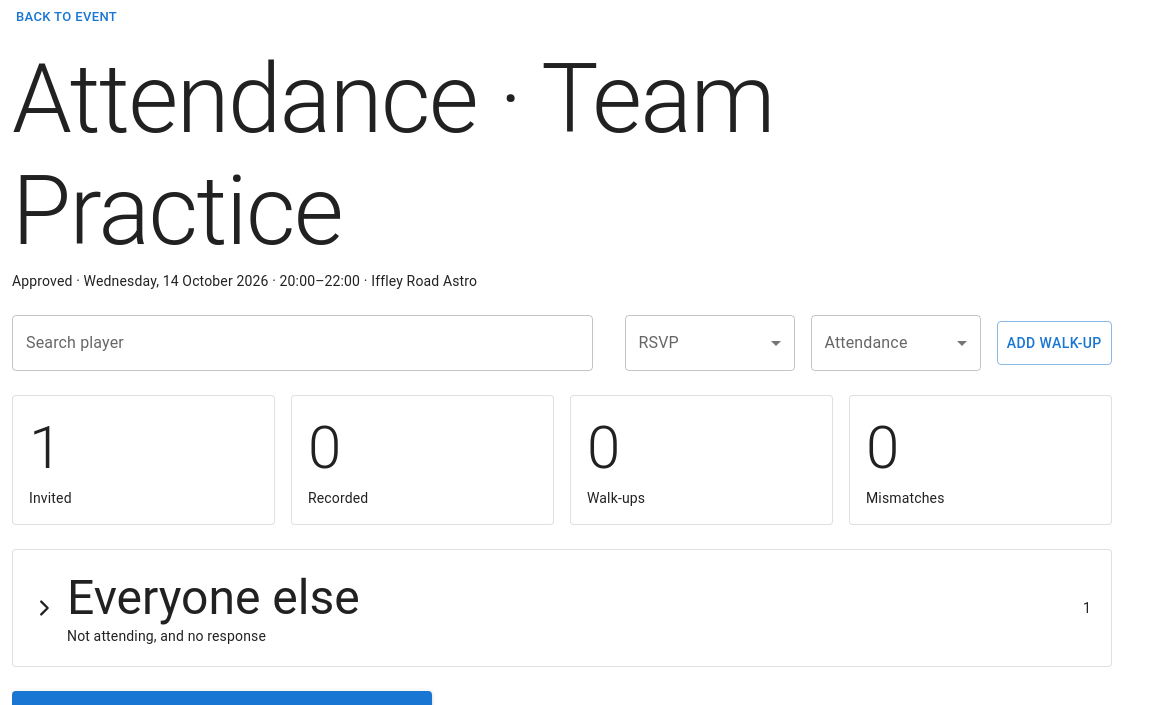
Test: Recruits first — W12, D11, LAN-205 › draws no Recruits group at all for any other event type, even with a recruit-capacity row
Expected: the text with test id "attendance-group-count-everyone_else" reads "1", [1083,600,1091,616]
Step 1. Click the button with test id "attendance-group-toggle-everyone_else" → [213, 598], box [13,550,1111,666]
(page scrolled)
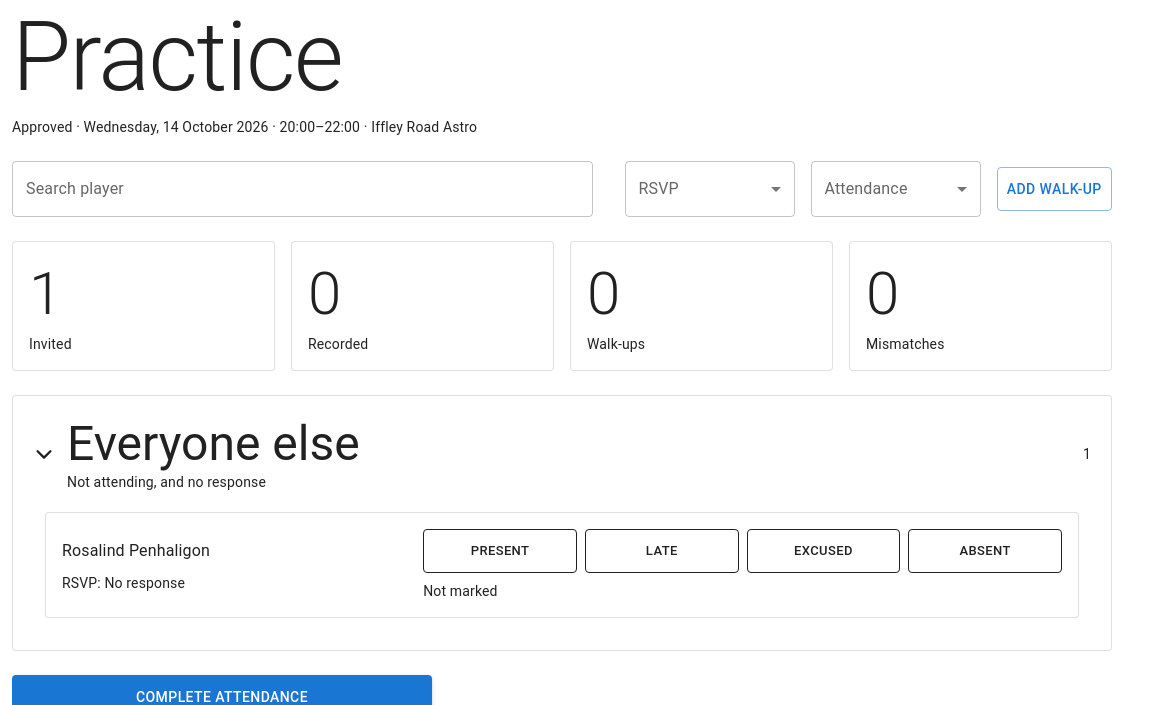
Now the element with test id "attendance-group-everyone_else" shows "Rosalind Penhaligon", box [62,541,210,560]
